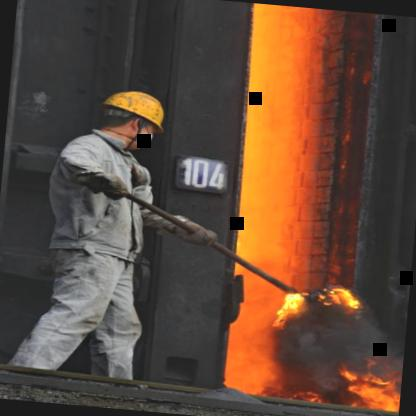helmet: (88, 77, 176, 153)
